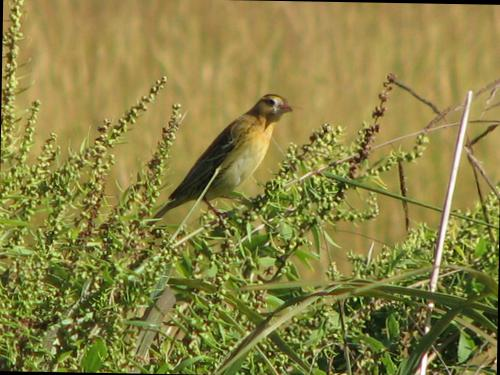bird: (125, 81, 303, 243)
